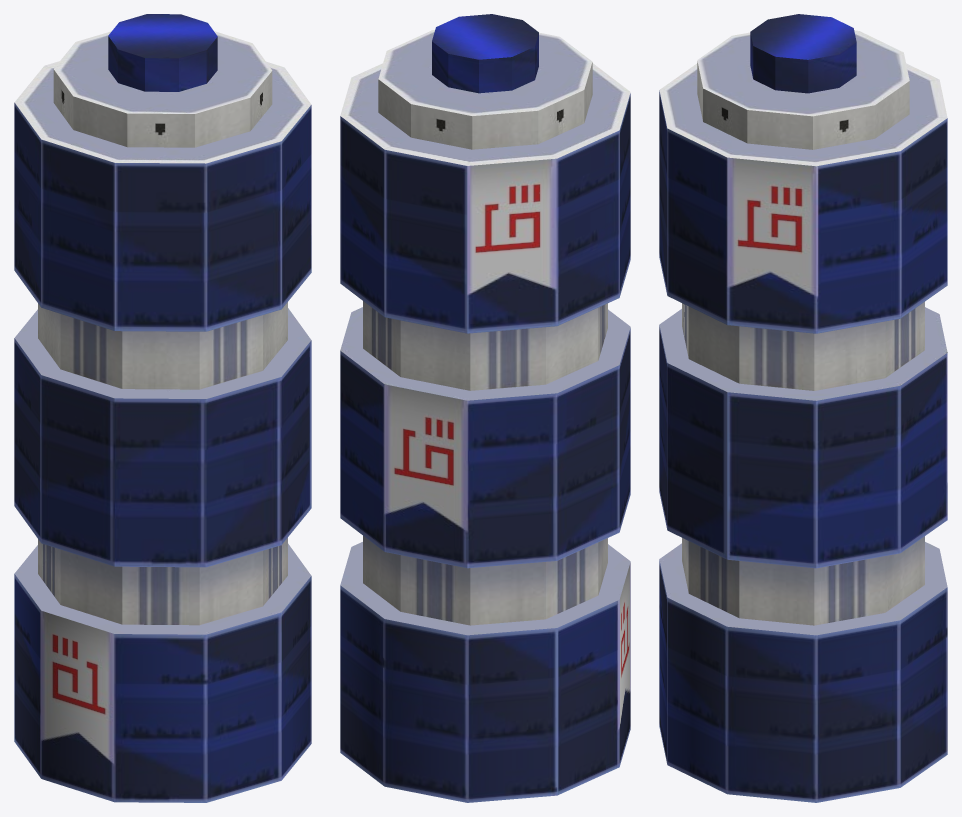
File: House_16.FBX
3 views of the same model, side by side, from view 1: azimuth 30°, elevation 25°; view 2: azimuth 150°, elevation 25°; view 3: azimuth 270°, elevation 25° (orthographic).
Visible parts, largest first — view 1: House_16; view 2: House_16; view 3: House_16.
Part boxes in pixels (x1,y1,x2,y2): House_16: (14, 14, 311, 802); House_16: (340, 14, 630, 802); House_16: (659, 14, 947, 802).
Bounding box in the file's own units: 39.85 × 105 × 38.97.
1 material, 1 textured.
